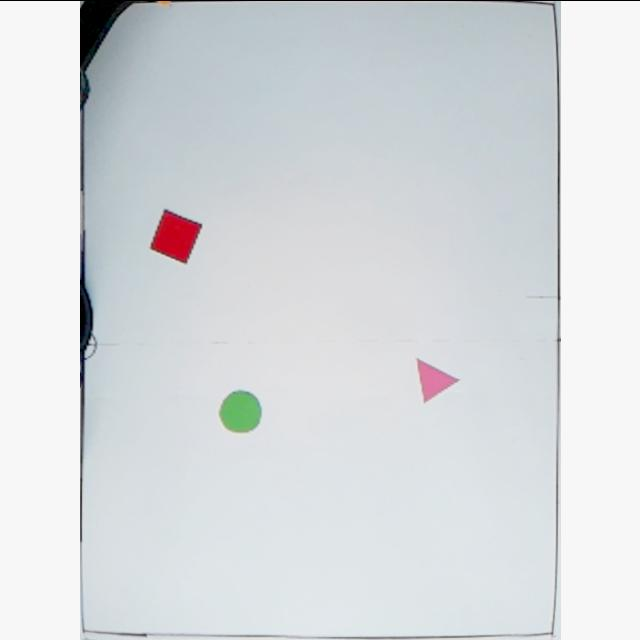greenCircle: (216, 388, 264, 432)
pinkTriangle: (412, 355, 461, 403)
redSquare: (146, 206, 204, 264)
